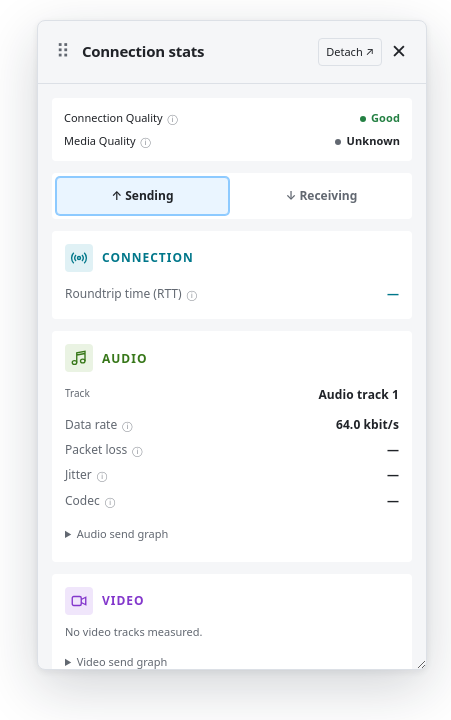
it: Connection dashboard › renders missing outgoing feedback differently from measured zero incoming loss and releases collection
The width and height of the screenshot is (451, 720).
Check: the cell "64.0 kbit/s" is shown, box [259, 412, 399, 437]
Check: the cell "—" next to "Packet loss" is shown, box [387, 441, 399, 458]
What coordinates should you click on to do the following:
click the tab "↓ Receiving"
I would click on:
 (322, 196)
Its box is [235, 177, 408, 215].
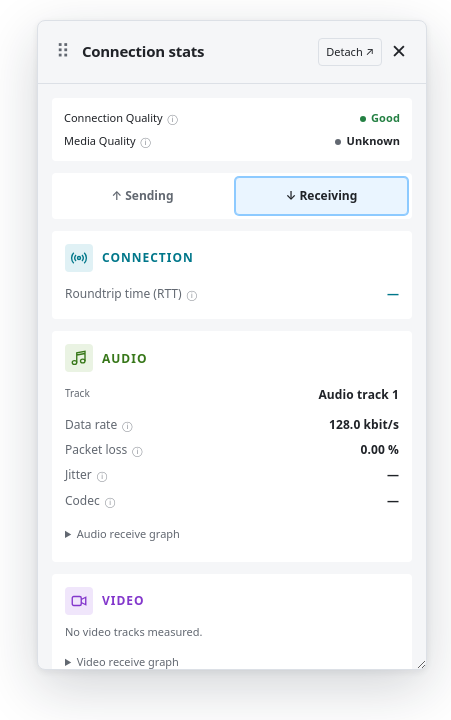
Check: the cell "128.0 kbit/s" is shown, box [259, 412, 399, 437]
Check: the cell "0.00 %" is shown, box [259, 437, 399, 462]
